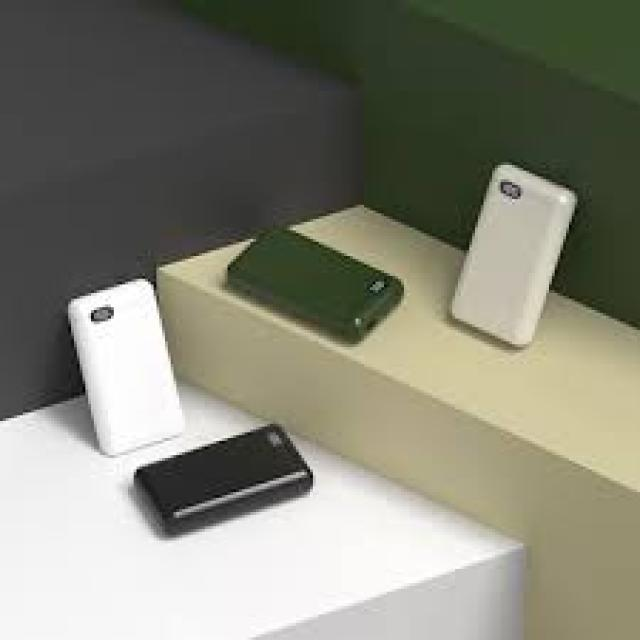portable-charger: (449, 160, 578, 355), (220, 222, 407, 346), (64, 279, 186, 458), (139, 416, 319, 533)
